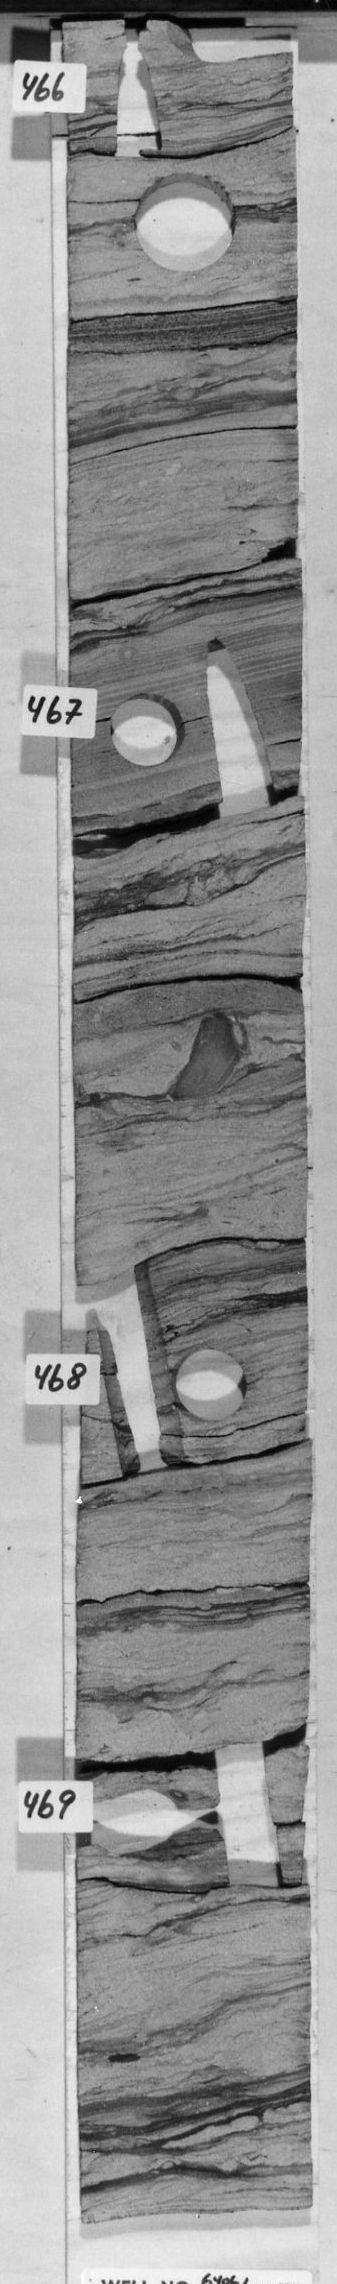hplug: (82, 1781, 206, 1869), (101, 689, 190, 768), (177, 1344, 252, 1427), (171, 23, 287, 68)
scal: (124, 168, 244, 275)
vplug: (93, 1260, 190, 1476), (193, 637, 280, 819), (203, 1736, 287, 1899), (101, 19, 174, 165)
